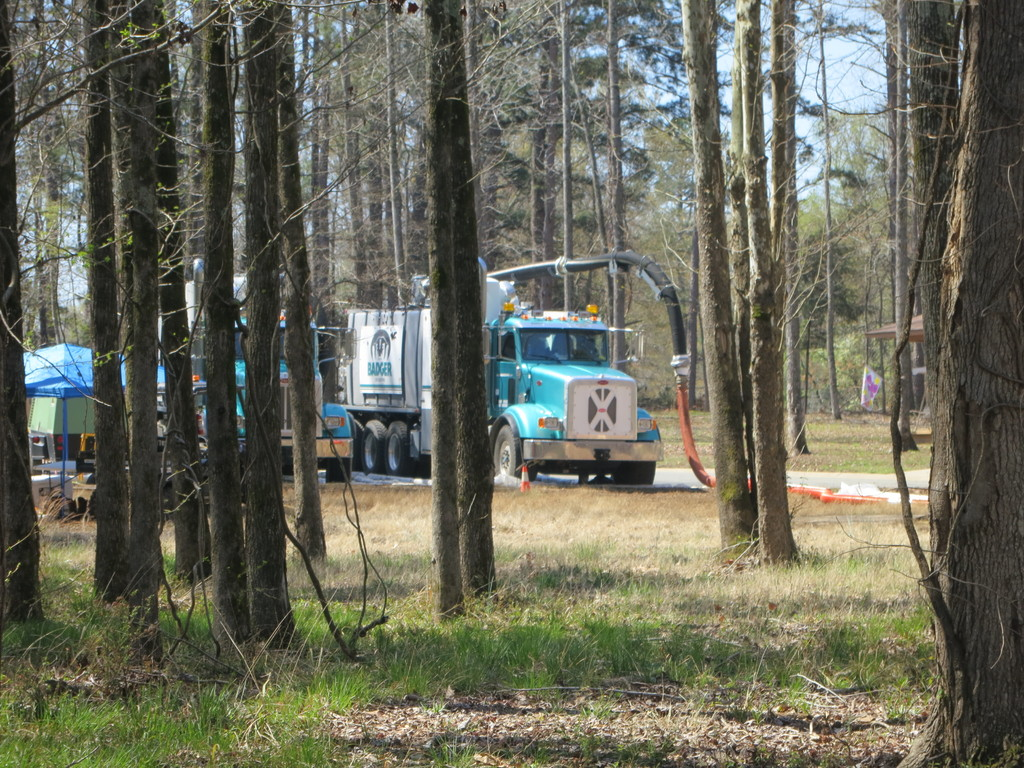truck: (331, 284, 692, 505), (163, 284, 361, 486)
